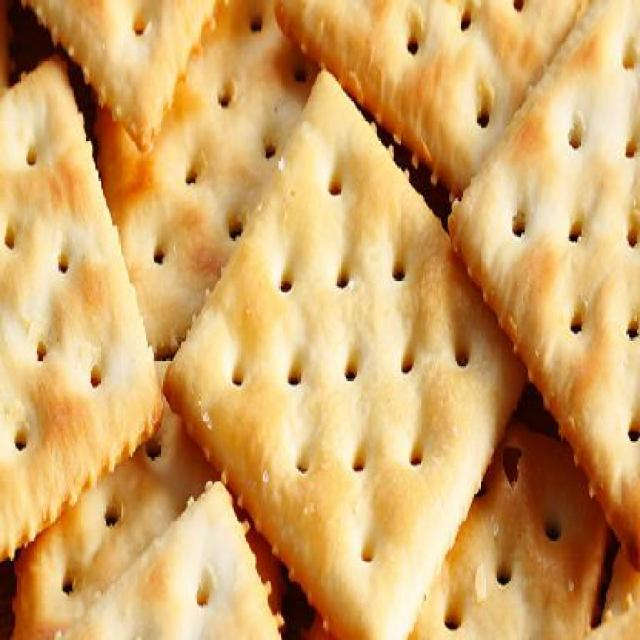Cracker packaged: (180, 56, 528, 638), (0, 66, 174, 566), (462, 21, 640, 508)
